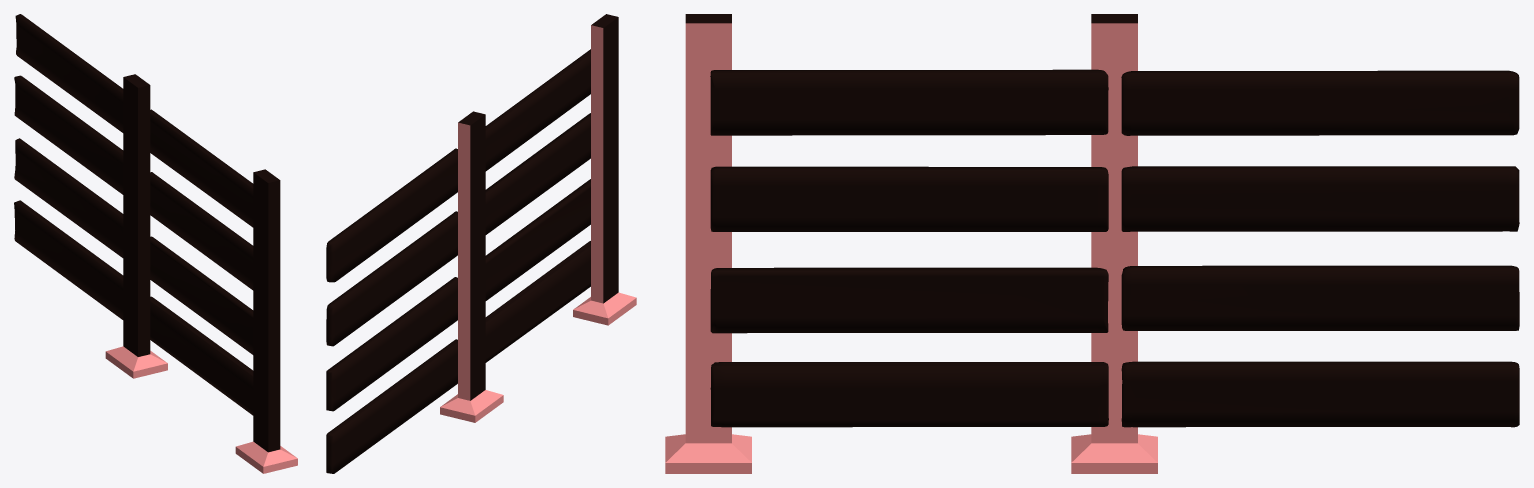
Rendered from TRainFEnce.FBX.
3 views of the same model, side by side, from view 1: azimuth 30°, elevation 25°; view 2: azimuth 150°, elevation 25°; view 3: azimuth 270°, elevation 25° (orthographic). The views are drawn at different scales.
Visible parts, largest first — view 1: TrainRoadFence; view 2: TrainRoadFence; view 3: TrainRoadFence.
Boxes of the visible parts, <box> form: TrainRoadFence: <box>14,14,297,473</box>; TrainRoadFence: <box>326,14,636,473</box>; TrainRoadFence: <box>665,14,1519,473</box>.
Bounding box in the file's own units: 7.92 × 62.15 × 109.
